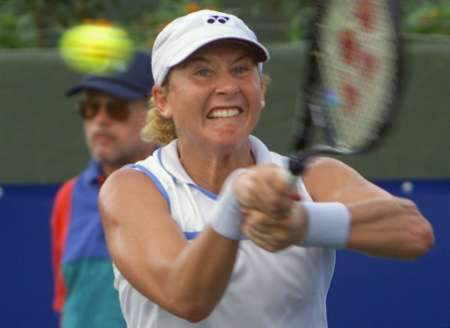Face: (166, 53, 273, 155), (75, 83, 165, 165)
